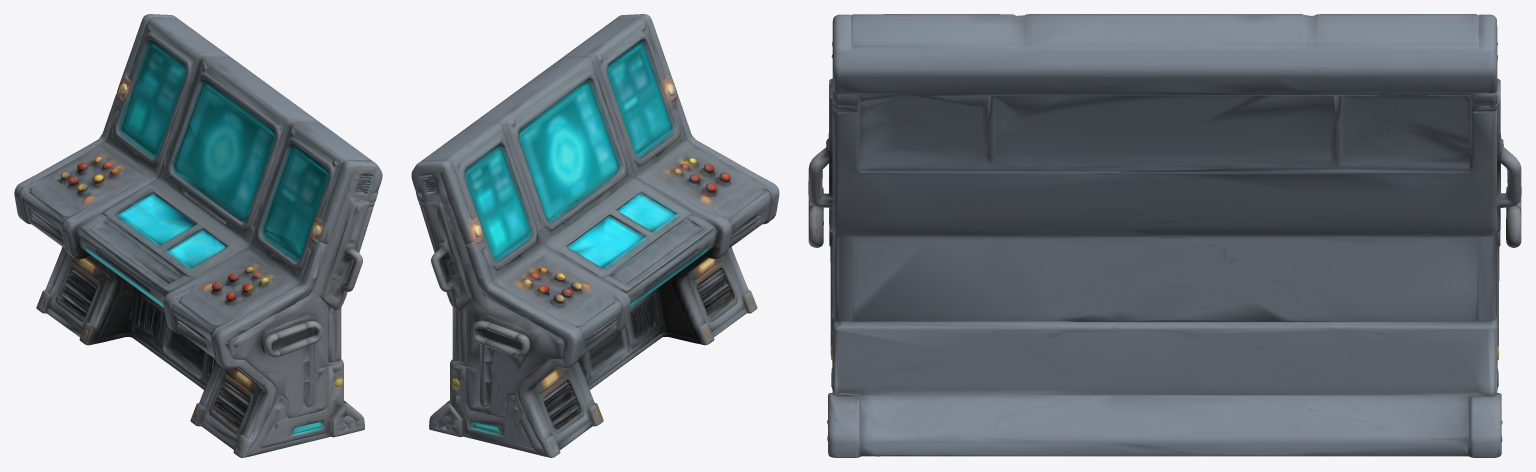
File: terminal_console.glb
3 views of the same model, side by side, from view 1: azimuth 30°, elevation 25°; view 2: azimuth 150°, elevation 25°; view 3: azimuth 270°, elevation 25° (orthographic). The views are drawn at different scales.
Parts seen in each view (by area): view 1: node_0; view 2: node_0; view 3: node_0.
Boxes of the visible parts, bbox=[...] form: node_0: bbox=[14, 14, 382, 457]; node_0: bbox=[411, 14, 779, 457]; node_0: bbox=[808, 14, 1521, 457].
Bounding box in the file's own units: 0.4331 × 0.6699 × 1.
Materials: 1 (1 with a texture image).
